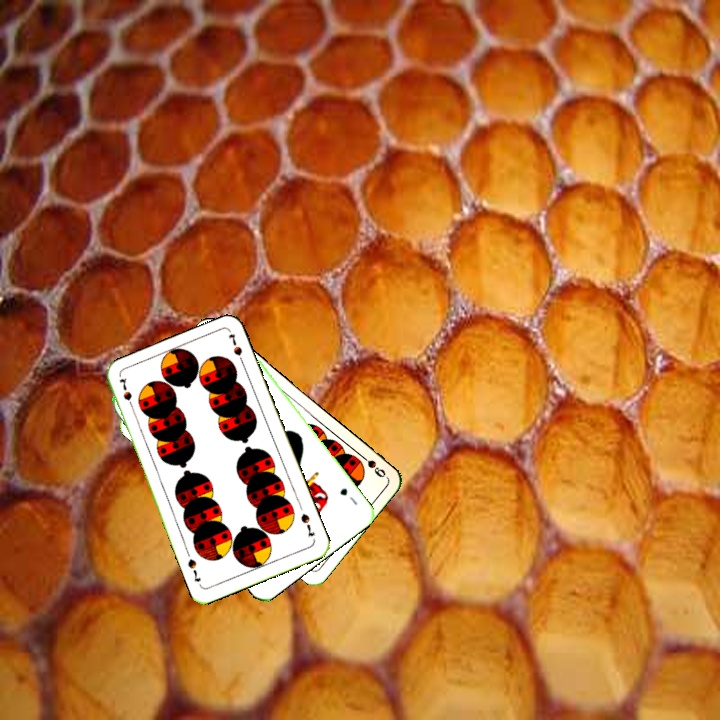GU: (336, 484, 360, 508)
S7: (115, 374, 137, 413), (297, 509, 317, 540)
S9: (354, 449, 388, 480)
